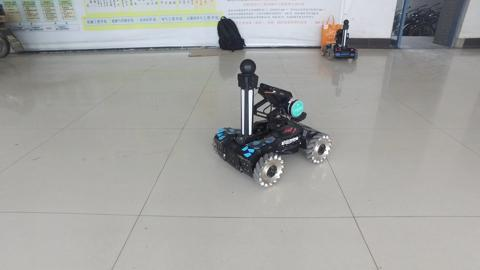bag: (213, 15, 248, 52), (319, 13, 343, 47)
chariot: (211, 57, 332, 188), (319, 17, 359, 62)
